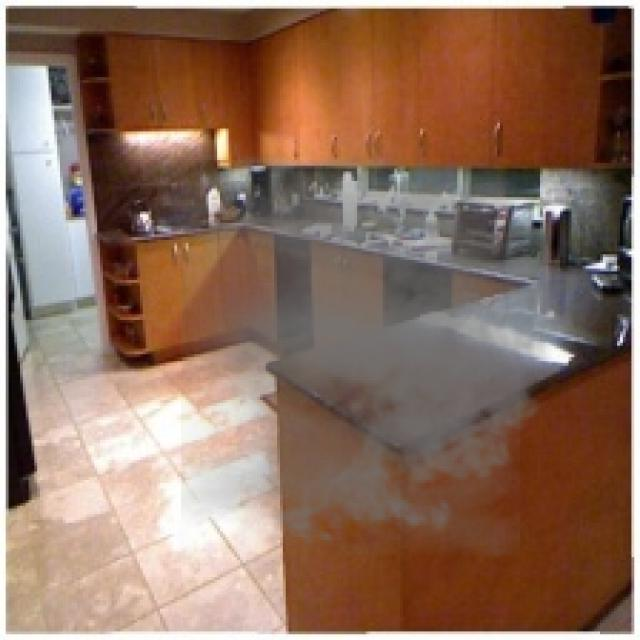smoke: (180, 152, 589, 557)
